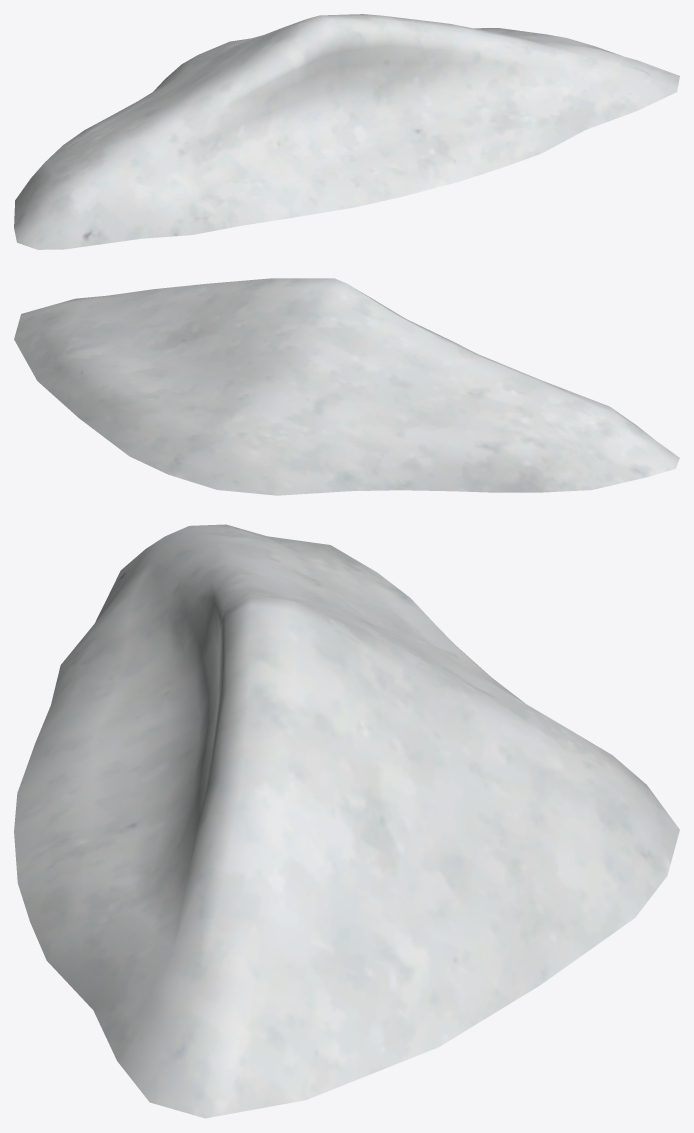
The model's file is SnowDrift.FBX.
3 renders of one model, top to bottom at view 1: azimuth 30°, elevation 25°; view 2: azimuth 150°, elevation 25°; view 3: azimuth 270°, elevation 25°, orthographic. The views are drawn at different scales.
Parts seen in each view (by area): view 1: SnowDriftSingle_PP; view 2: SnowDriftSingle_PP; view 3: SnowDriftSingle_PP.
Part boxes in pixels (x1=…): SnowDriftSingle_PP: x1=14, y1=14, x2=679, y2=249; SnowDriftSingle_PP: x1=14, y1=278, x2=679, y2=495; SnowDriftSingle_PP: x1=14, y1=524, x2=679, y2=1118.
Bounding box in the file's own units: 3498 × 641 × 1718.
